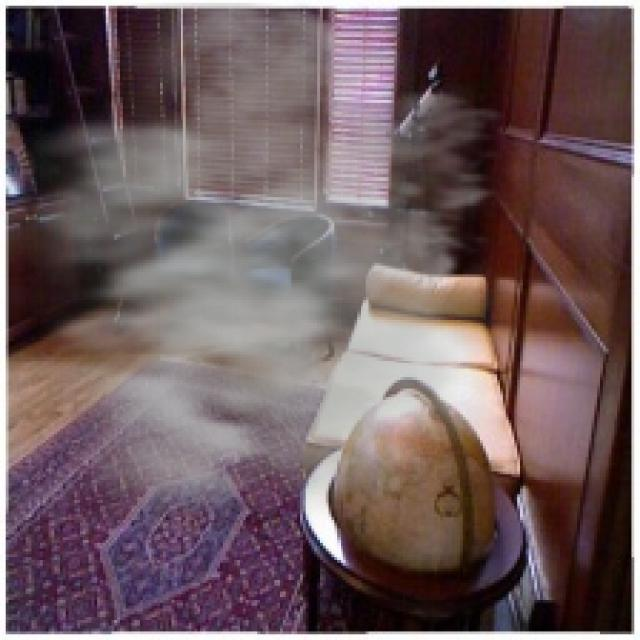Smoke: (6, 3, 554, 546)
